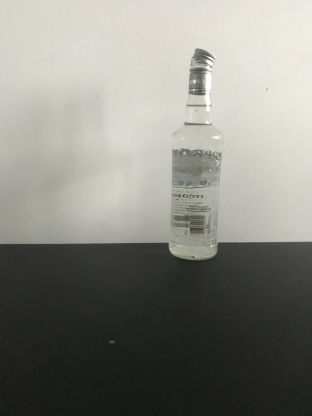nakretka: (187, 46, 216, 95)
